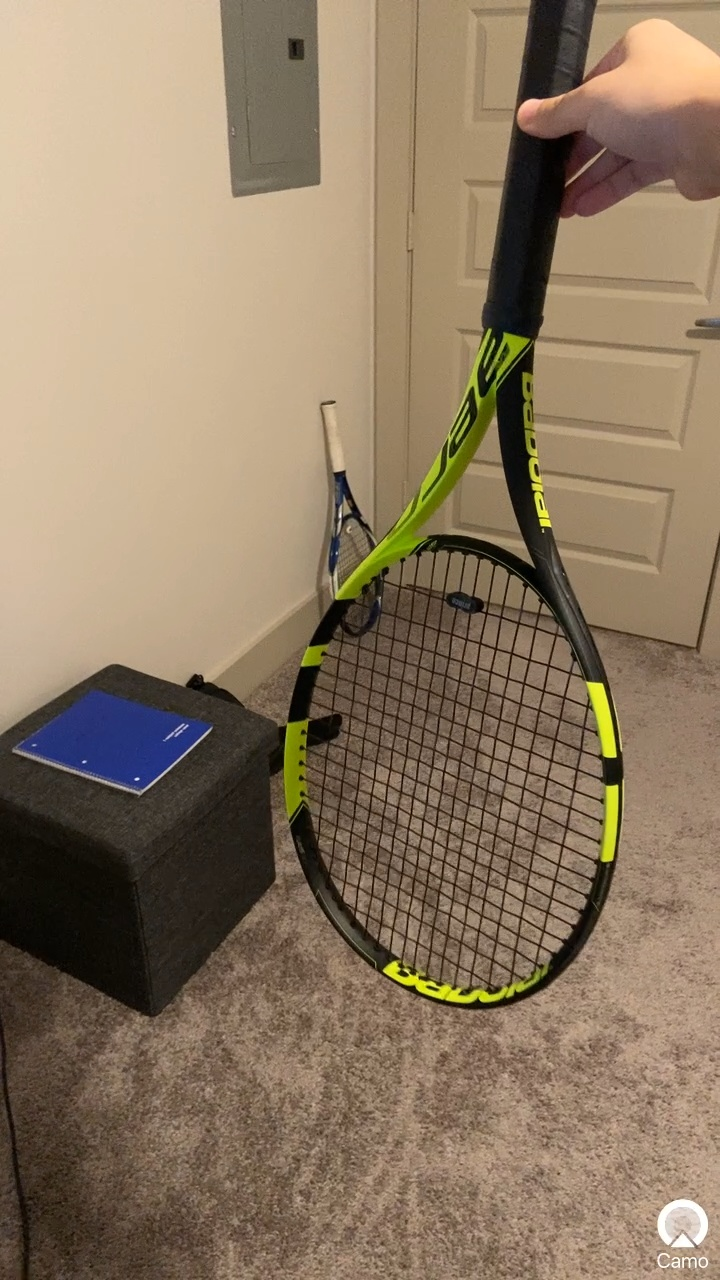Tennis_Racquet: (277, 1, 648, 1026)
